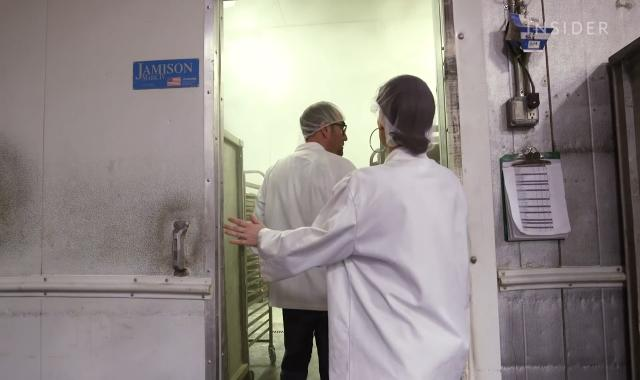hairnet: (376, 71, 438, 152), (302, 102, 346, 140)
